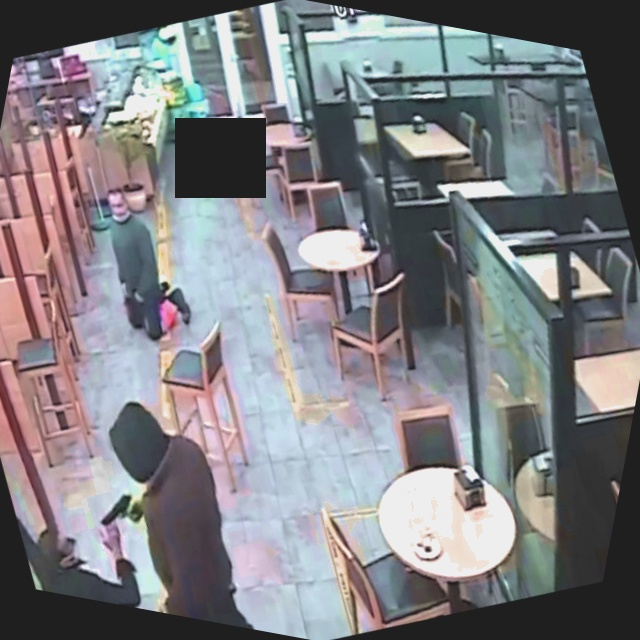gun: (75, 469, 163, 557)
